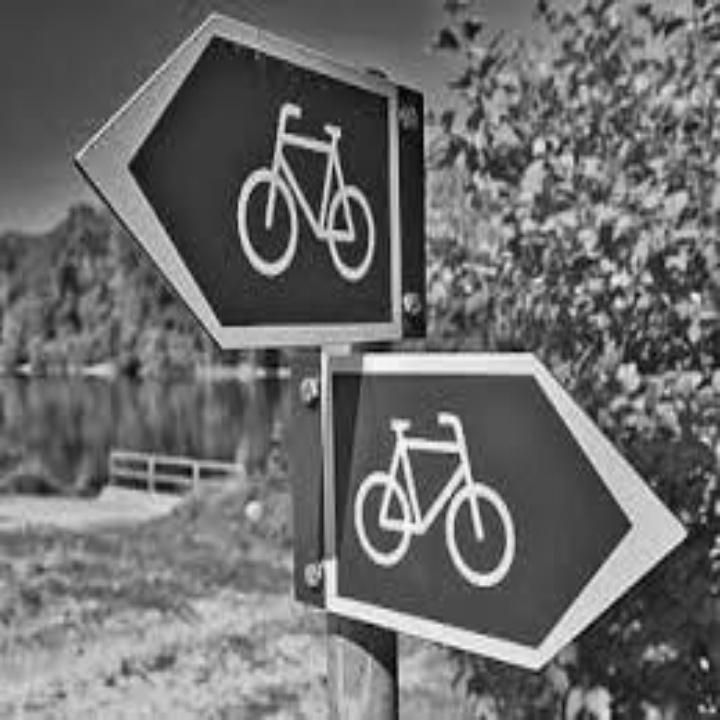bicycle: (340, 393, 529, 593), (212, 88, 378, 304)
